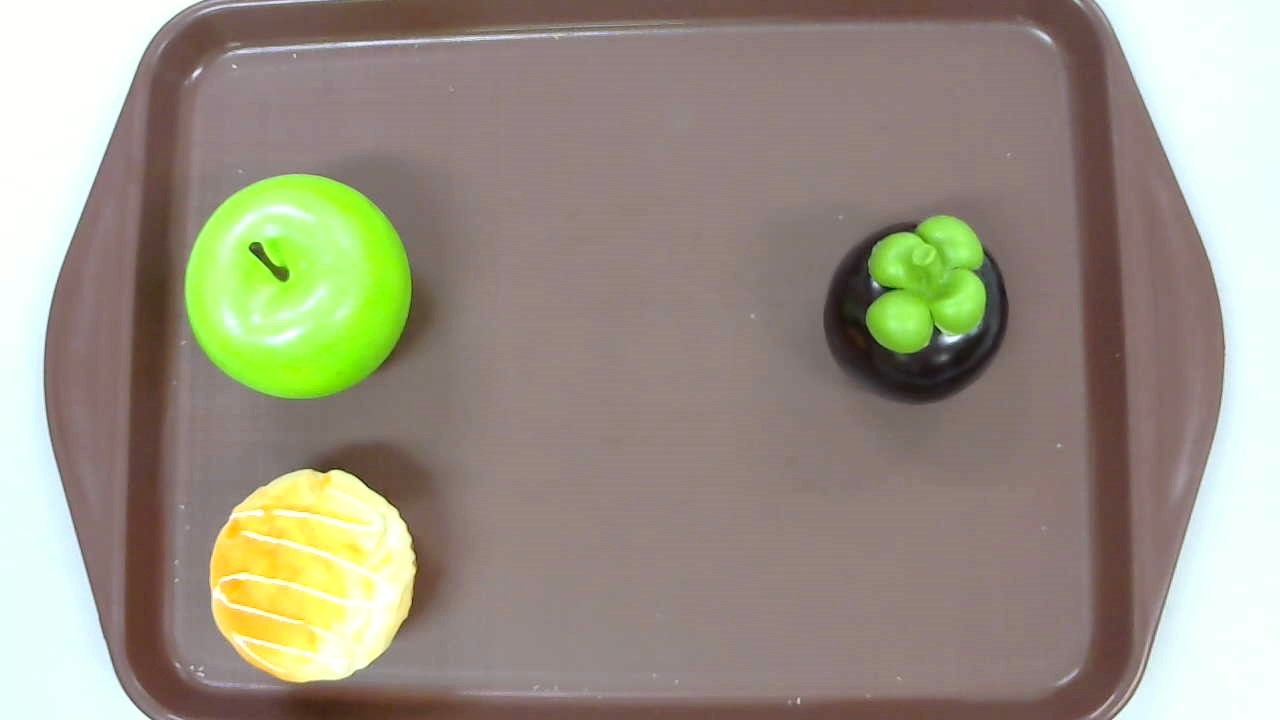cupcake: (208, 467, 416, 684)
green apple: (185, 173, 412, 400)
mangosteen: (818, 214, 1010, 403)
